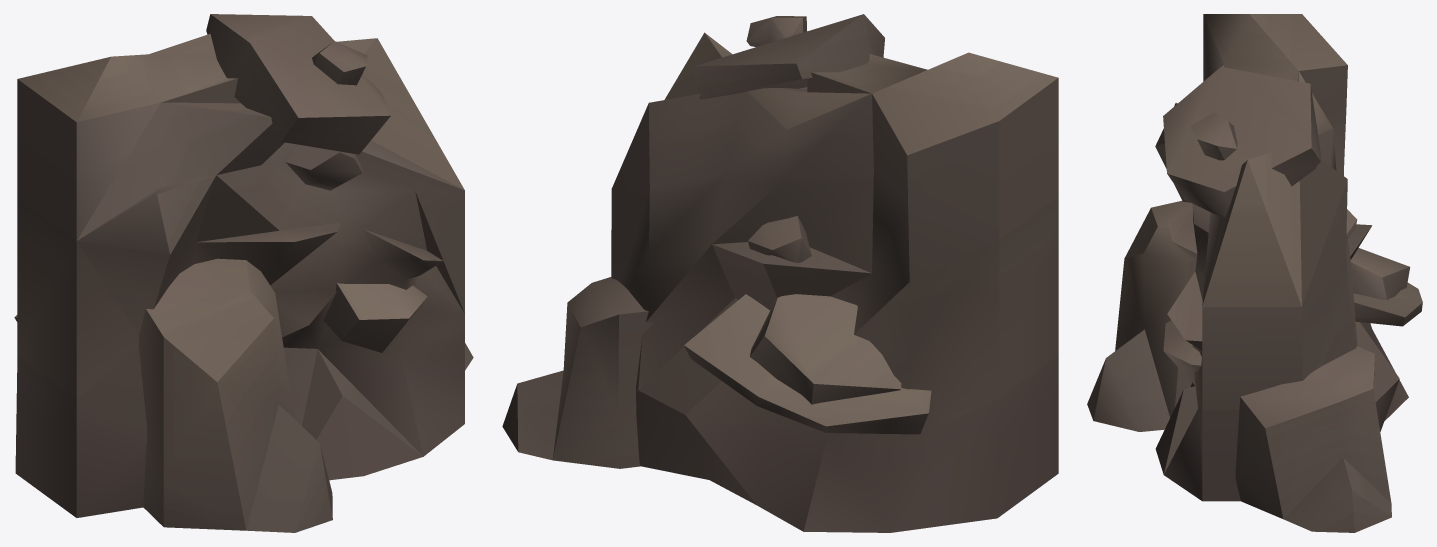
Rendered from rubble_half.glb.
The picture shows the model from 3 angles, left to right: view 1: azimuth 30°, elevation 25°; view 2: azimuth 150°, elevation 25°; view 3: azimuth 270°, elevation 25°; orthographic projection. The views are drawn at different scales.
Parts seen in each view (by area): view 1: rubble_half; view 2: rubble_half; view 3: rubble_half.
Part boxes in pixels (left/top/right/bottom): rubble_half: left=14, top=14, right=473, bottom=532; rubble_half: left=502, top=14, right=1058, bottom=532; rubble_half: left=1087, top=14, right=1422, bottom=532.
Size of the model in its own units: 4 by 3.5 by 3.
1 material, 1 textured.
